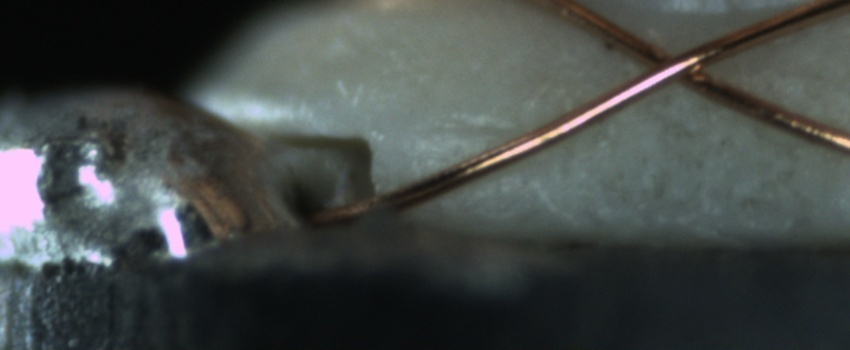CL: (623, 32, 727, 96)
DL: (401, 97, 534, 161)
